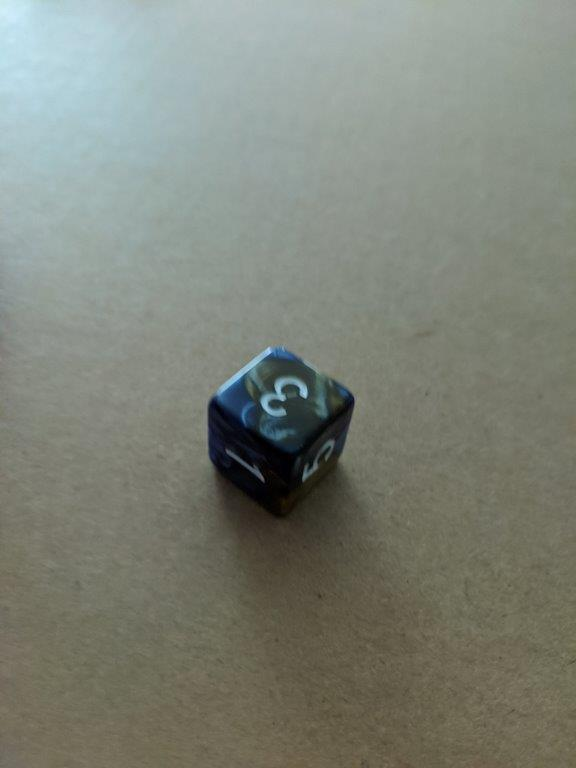d6-3: (206, 343, 356, 517)
